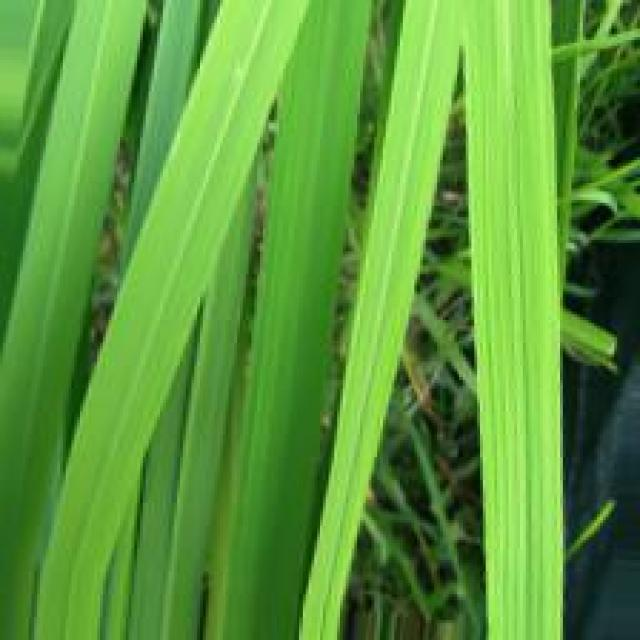HealthyLeaf: (76, 15, 287, 459), (227, 28, 360, 632), (0, 30, 133, 464), (470, 101, 558, 626), (336, 110, 444, 458)
